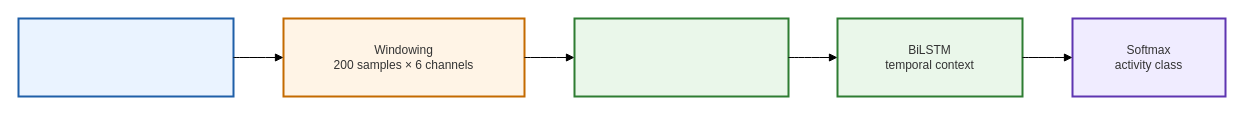
This 1243x114 diagram has some shape labels left out. Here are the shapes that lost their labels. From the top down, the centre of each, then its label:
(x=125, y=57): Raw IMU stream Ax, Ay, Az, Gx, Gy, Gz
(x=681, y=57): 1D-CNN local motion features
